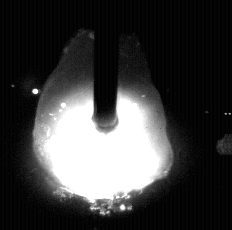arame: (94, 0, 119, 133)
poca: (32, 0, 170, 230)
